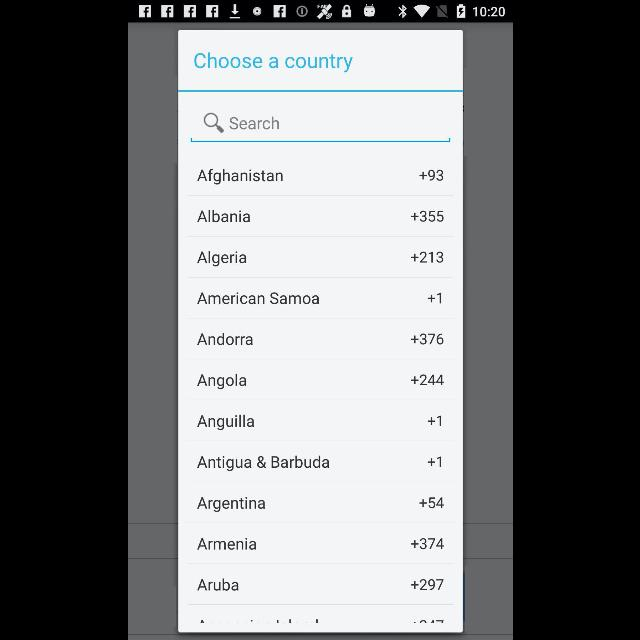icon: (202, 112, 224, 134)
input: (190, 113, 450, 143)
panel: (178, 30, 462, 632)
text: (194, 53, 352, 73), (197, 456, 329, 470), (196, 293, 318, 305), (196, 169, 282, 185), (197, 498, 265, 512), (196, 415, 254, 429), (196, 332, 252, 346), (198, 251, 246, 267), (197, 538, 256, 550), (196, 210, 248, 223), (230, 116, 278, 130), (198, 374, 246, 388), (196, 578, 238, 590), (411, 538, 444, 550), (411, 374, 444, 386), (411, 333, 444, 345), (411, 211, 444, 223), (411, 251, 443, 263), (410, 580, 442, 590), (419, 498, 443, 508), (420, 170, 442, 180), (428, 293, 442, 303), (428, 457, 440, 468), (428, 416, 440, 426)
uppertaskbar: (128, 1, 512, 23)
